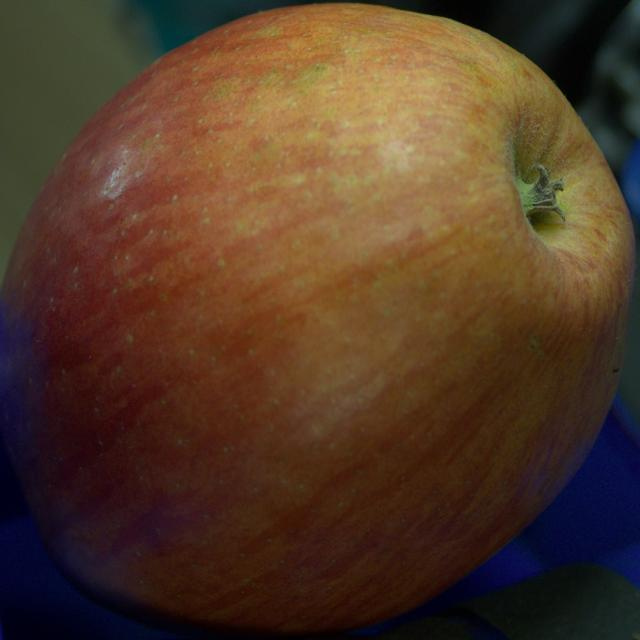apple: (0, 4, 634, 634)
